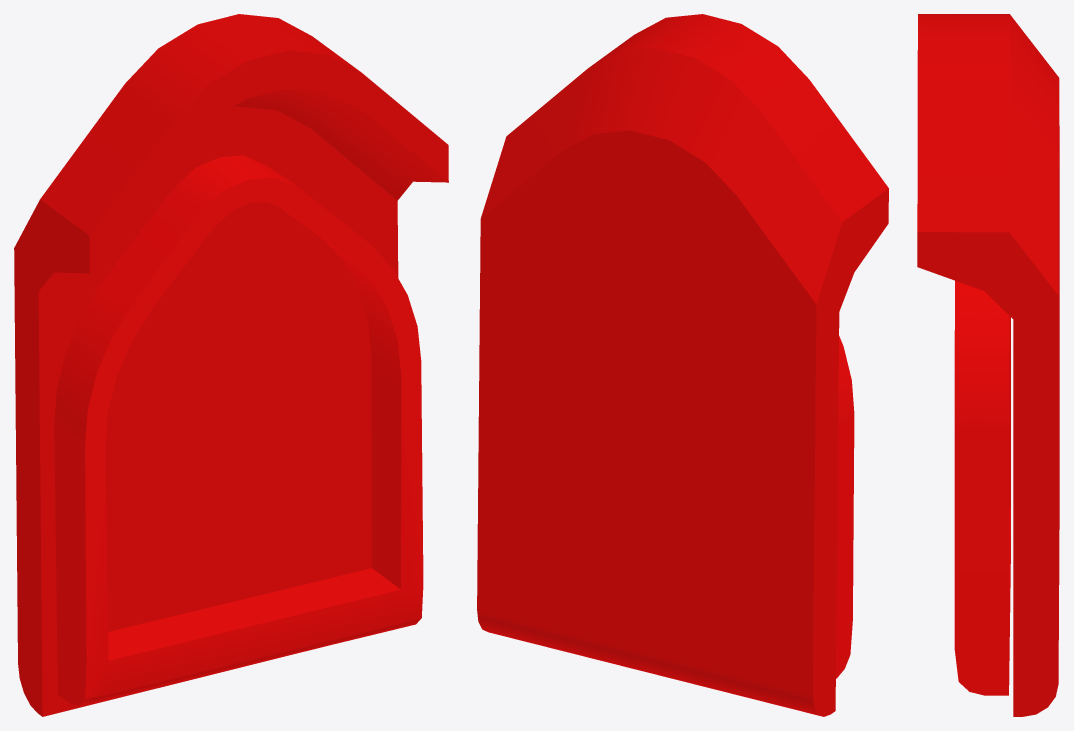
The model's file is SM_blender_01_cover.glb.
The picture shows the model from 3 angles, left to right: view 1: azimuth 30°, elevation 25°; view 2: azimuth 150°, elevation 25°; view 3: azimuth 270°, elevation 25°; orthographic projection. The views are drawn at different scales.
Visible parts, largest first — view 1: SM_blender_01_cover_LOD0; view 2: SM_blender_01_cover_LOD0; view 3: SM_blender_01_cover_LOD0.
Part boxes in pixels (x1=…): SM_blender_01_cover_LOD0: x1=14, y1=14, x2=448, y2=716; SM_blender_01_cover_LOD0: x1=477, y1=14, x2=888, y2=716; SM_blender_01_cover_LOD0: x1=917, y1=14, x2=1059, y2=716.
Size of what is drawn, in the model's own units: 0.0433 by 0.0749 by 0.0159.
